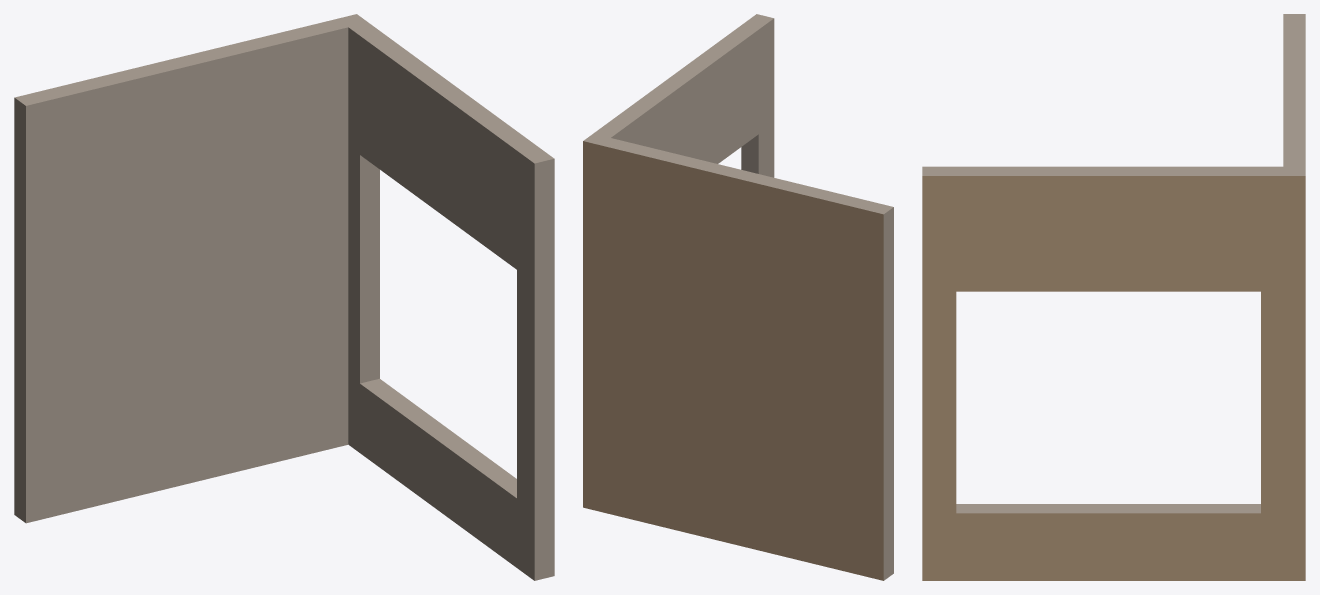
The model's file is Wall2_C4_14.fbx.
3 renders of one model, left to right at view 1: azimuth 30°, elevation 25°; view 2: azimuth 150°, elevation 25°; view 3: azimuth 270°, elevation 25°, orthographic. The views are drawn at different scales.
Parts seen in each view (by area): view 1: Wall2_C4_14; view 2: Wall2_C4_14; view 3: Wall2_C4_14.
Boxes of the visible parts, x1,y1,x2,y2 form: Wall2_C4_14: (14, 14, 554, 580); Wall2_C4_14: (583, 14, 893, 580); Wall2_C4_14: (922, 14, 1305, 580).
Size of the model in its own units: 258 by 300 by 258.
